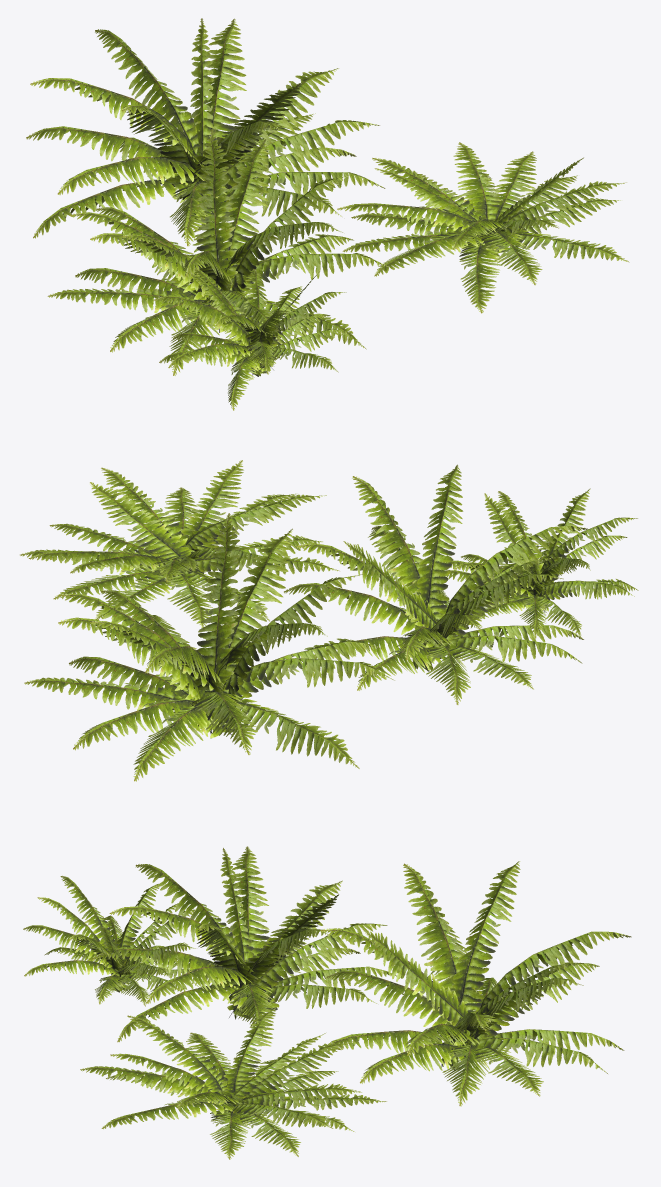
File: realfern.glb
The picture shows the model from 3 angles, top to bottom: view 1: azimuth 30°, elevation 25°; view 2: azimuth 150°, elevation 25°; view 3: azimuth 270°, elevation 25°; orthographic projection. The views are drawn at different scales.
Visible parts, largest first — view 1: Object_2; view 2: Object_2; view 3: Object_2.
Part boxes in pixels (left/top/right/bottom): Object_2: left=26, top=18, right=629, bottom=410; Object_2: left=20, top=460, right=638, bottom=781; Object_2: left=23, top=846, right=631, bottom=1159.
Bounding box in the file's own units: 2 × 0.7 × 2.15.
1 material, 1 textured.
